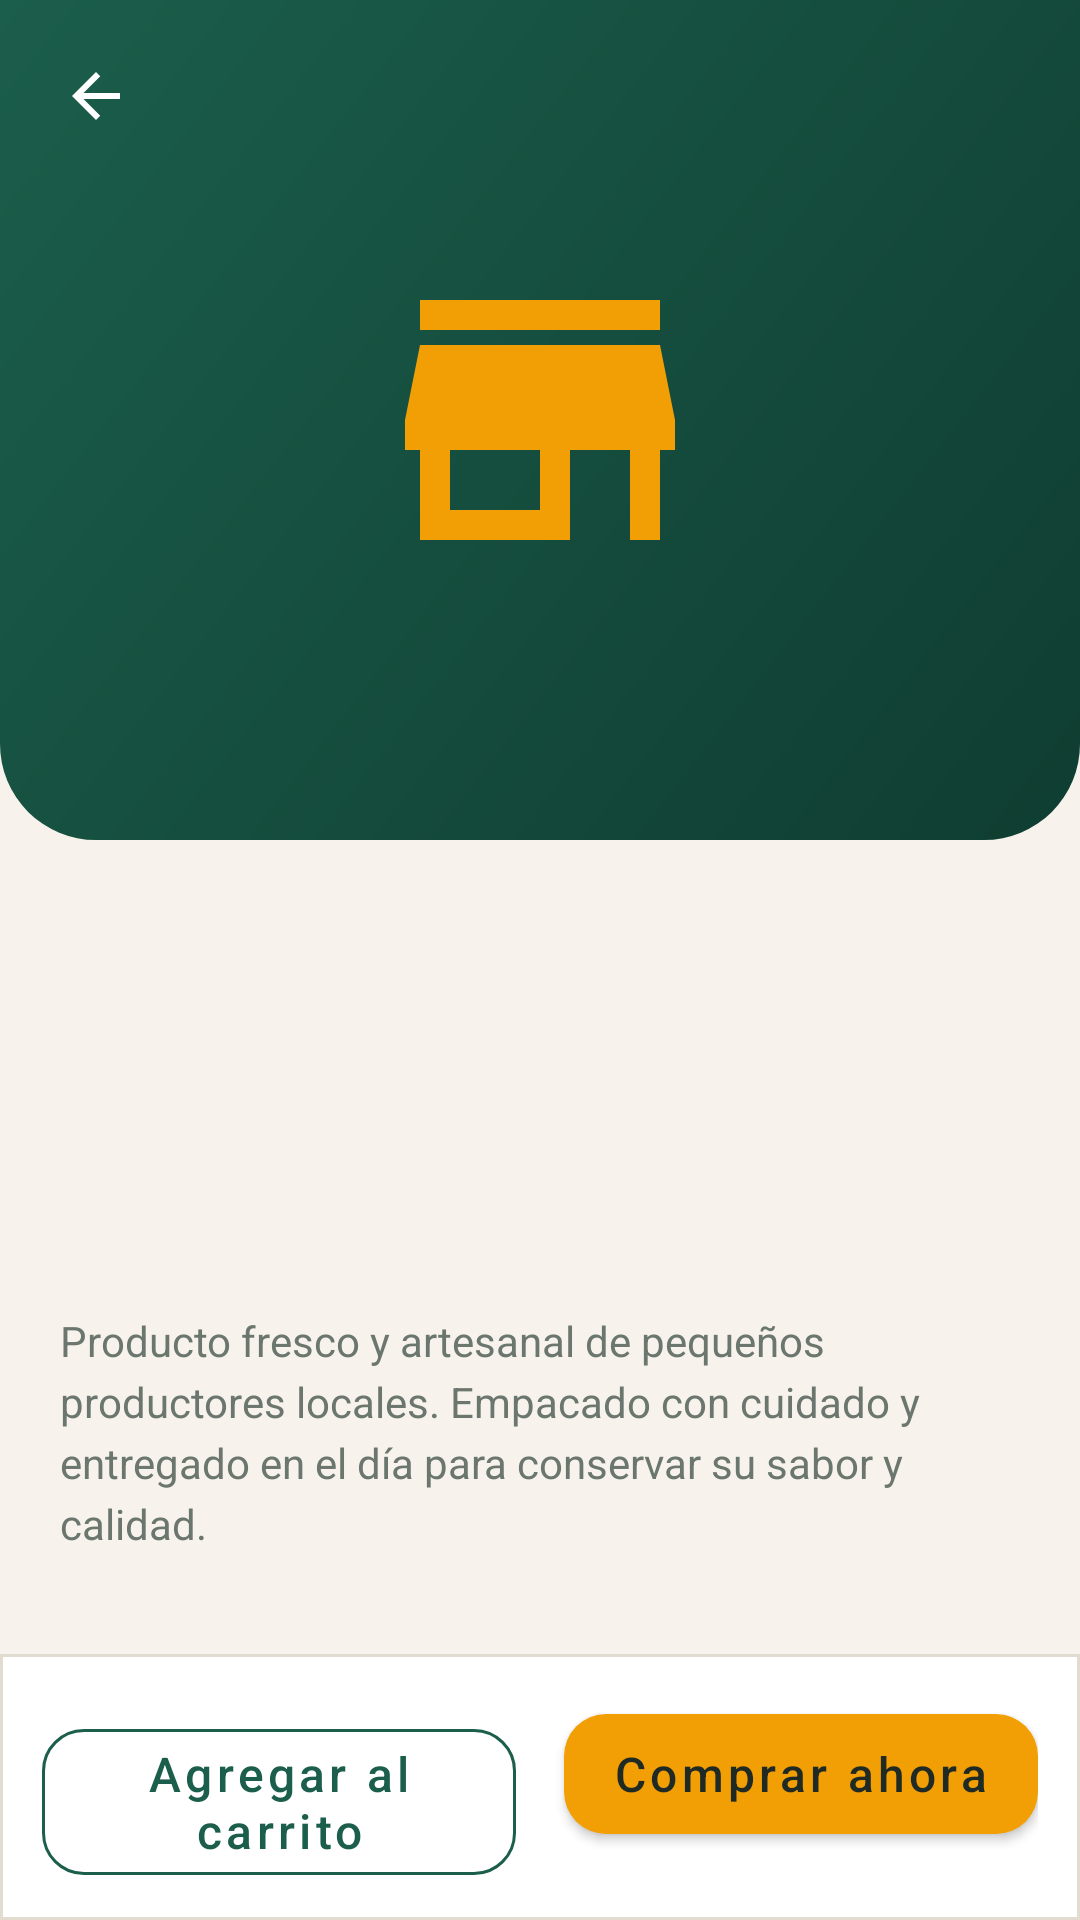

Icon click points for this 1080×1920 phone screenshot, format [x,y]:
store: [540,420]
Volver: [96,96]
